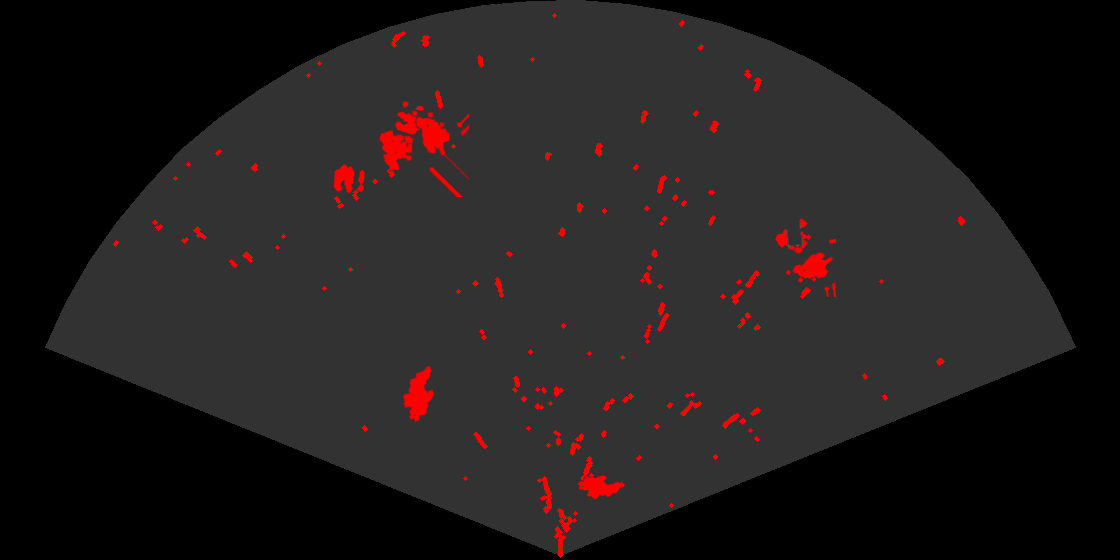AUV: (401, 364, 436, 424), (576, 474, 627, 501)
ball: (393, 100, 426, 136), (332, 163, 366, 195)
cage: (378, 109, 469, 197), (774, 217, 836, 297)
